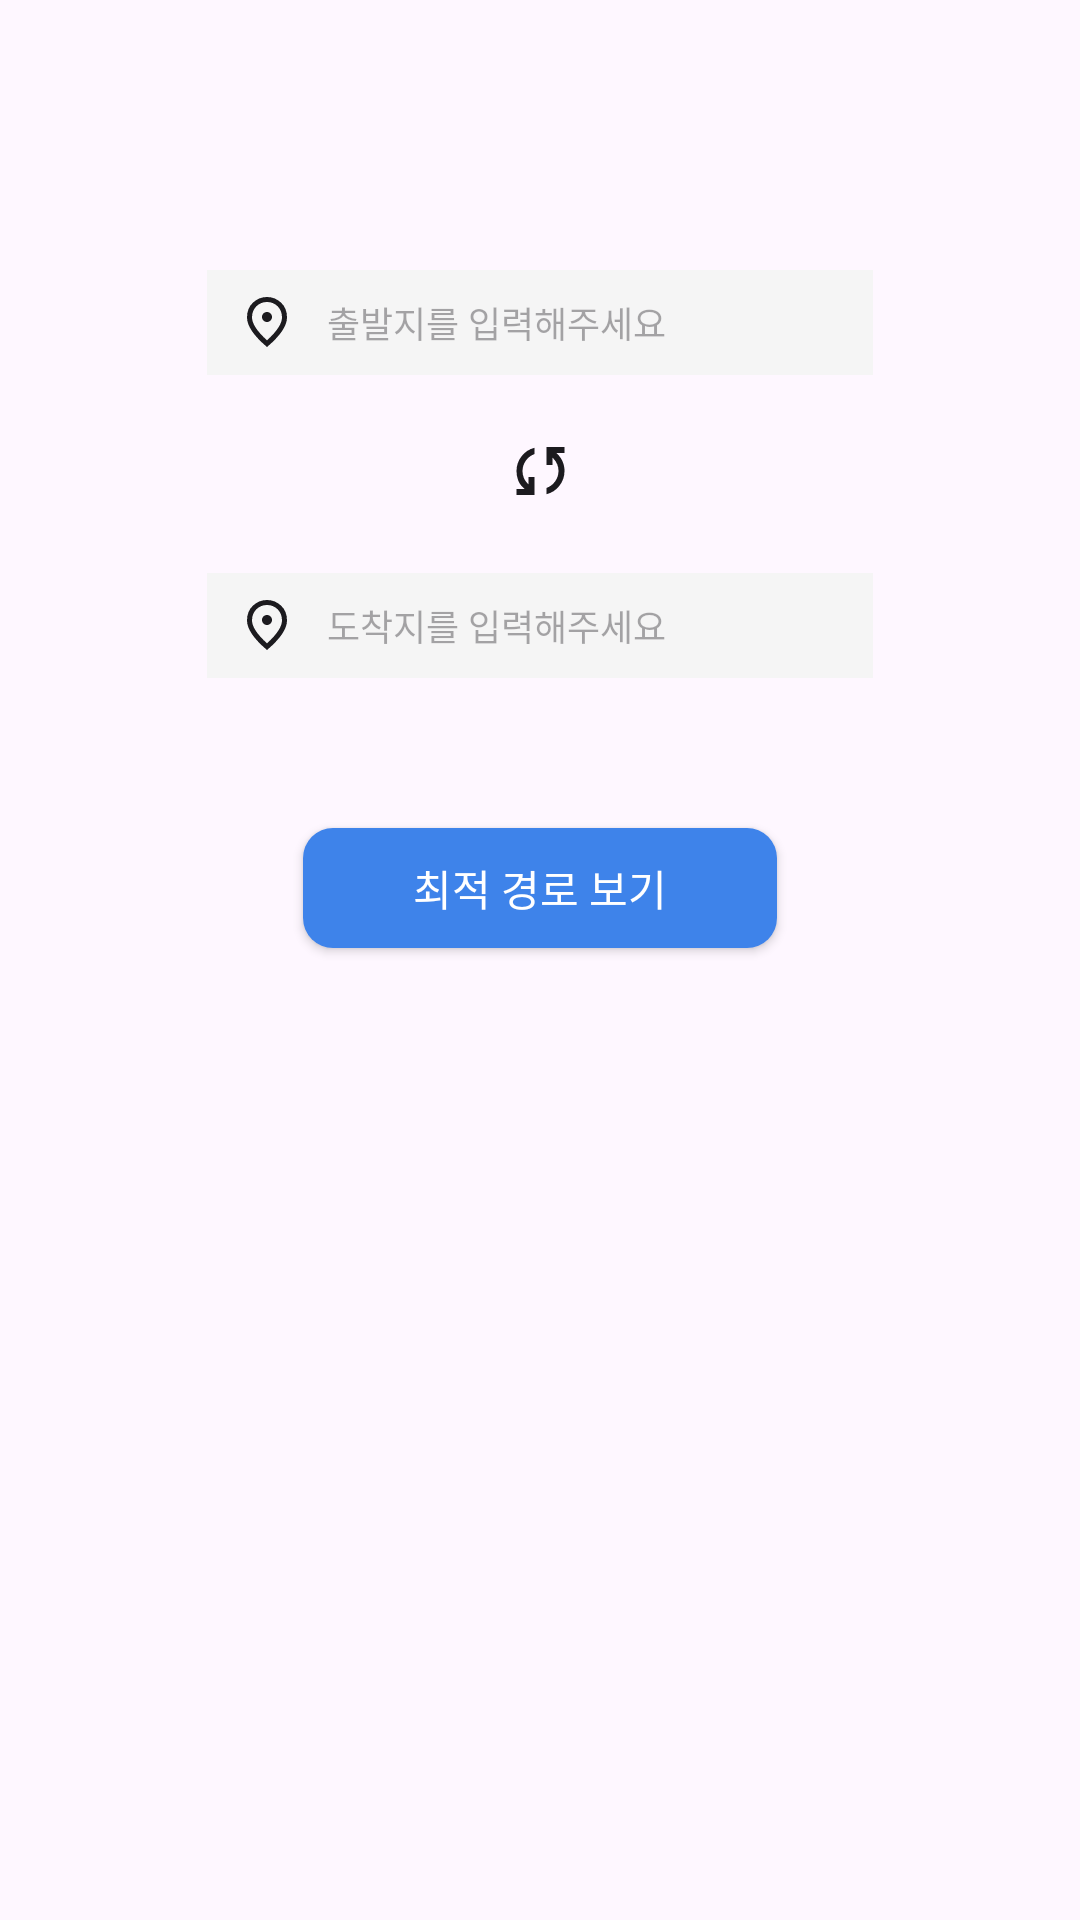

Icon click points for this 1080 x 1920 phone screenshot, format (x,y):
sync: (540,471)
